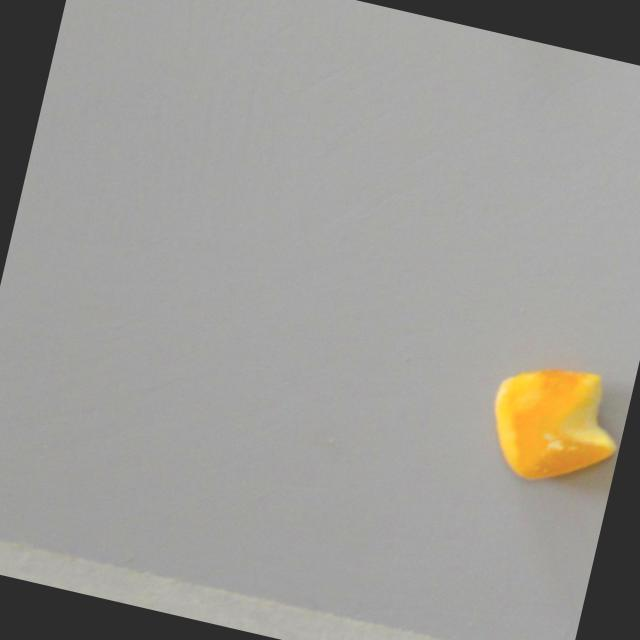pelicula: (479, 351, 633, 500)
